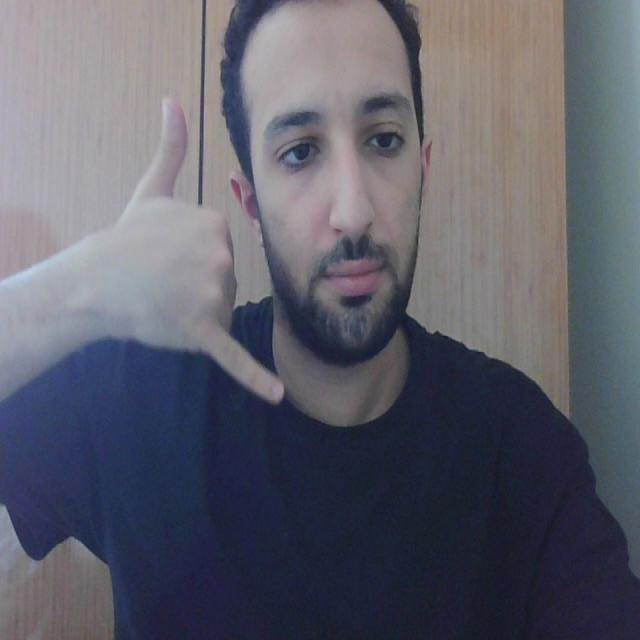Telefon: (134, 77, 291, 404)
